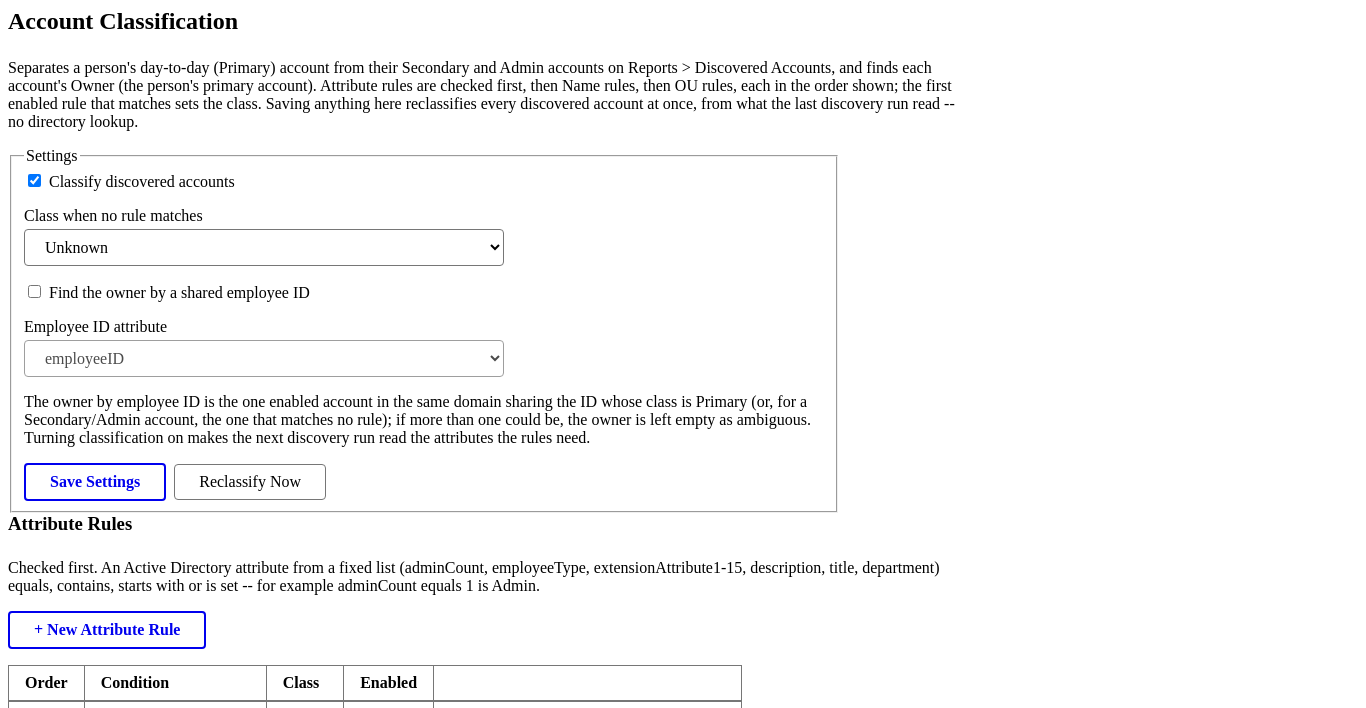
AccountClassification.vue › saves the settings and says how many accounts were reclassified
The image size is (1366, 708).
Click the checkbox labelled "Find the owner by a shared employee ID": coordinates (34, 291) [28,285,41,298]
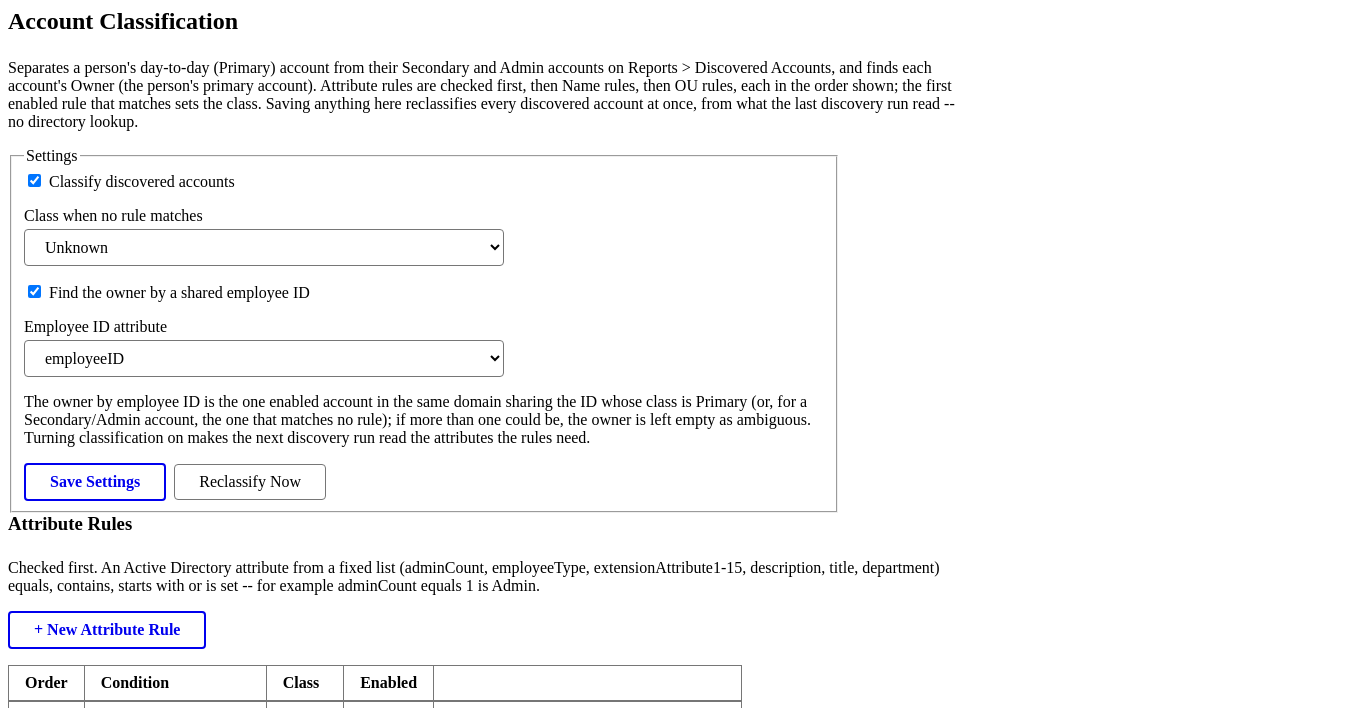
Select "employeeNumber" in the dropdown labelled "Employee ID attribute": coordinates (264, 358) [24,340,504,377]
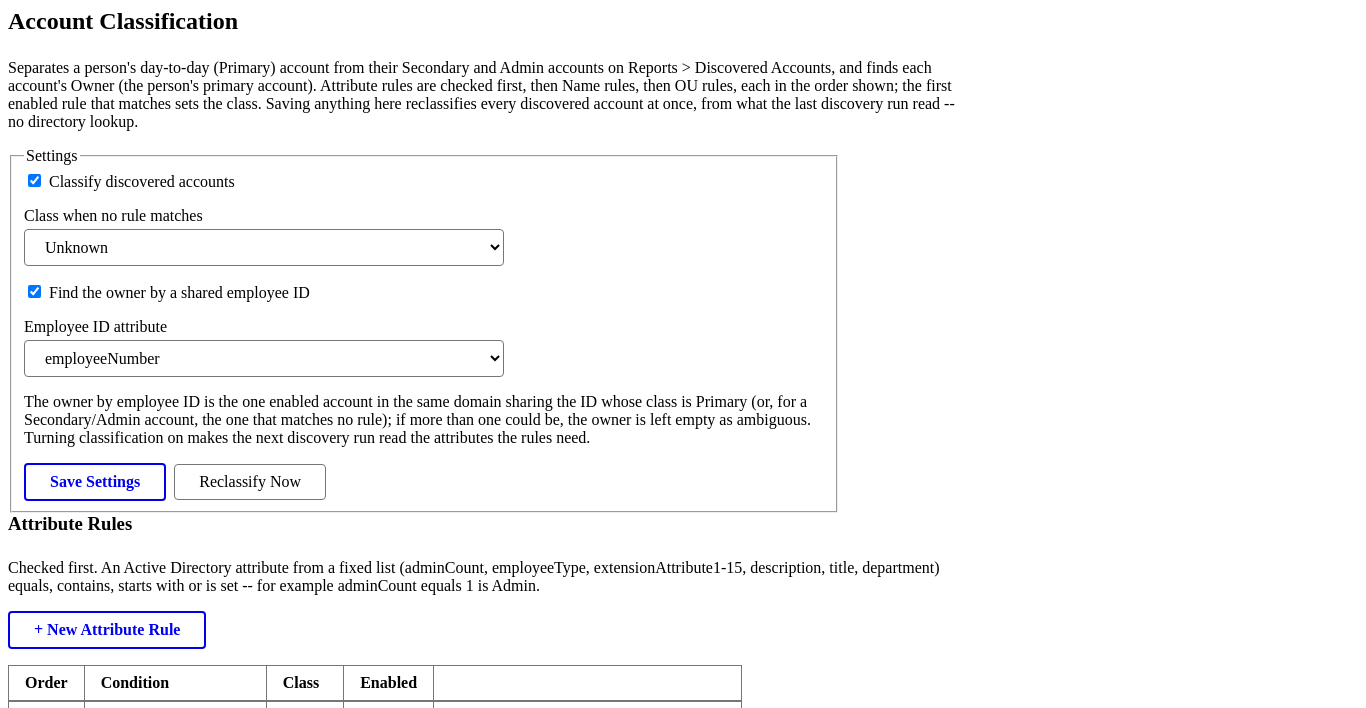
Submit the form, box [10,147,838,513]
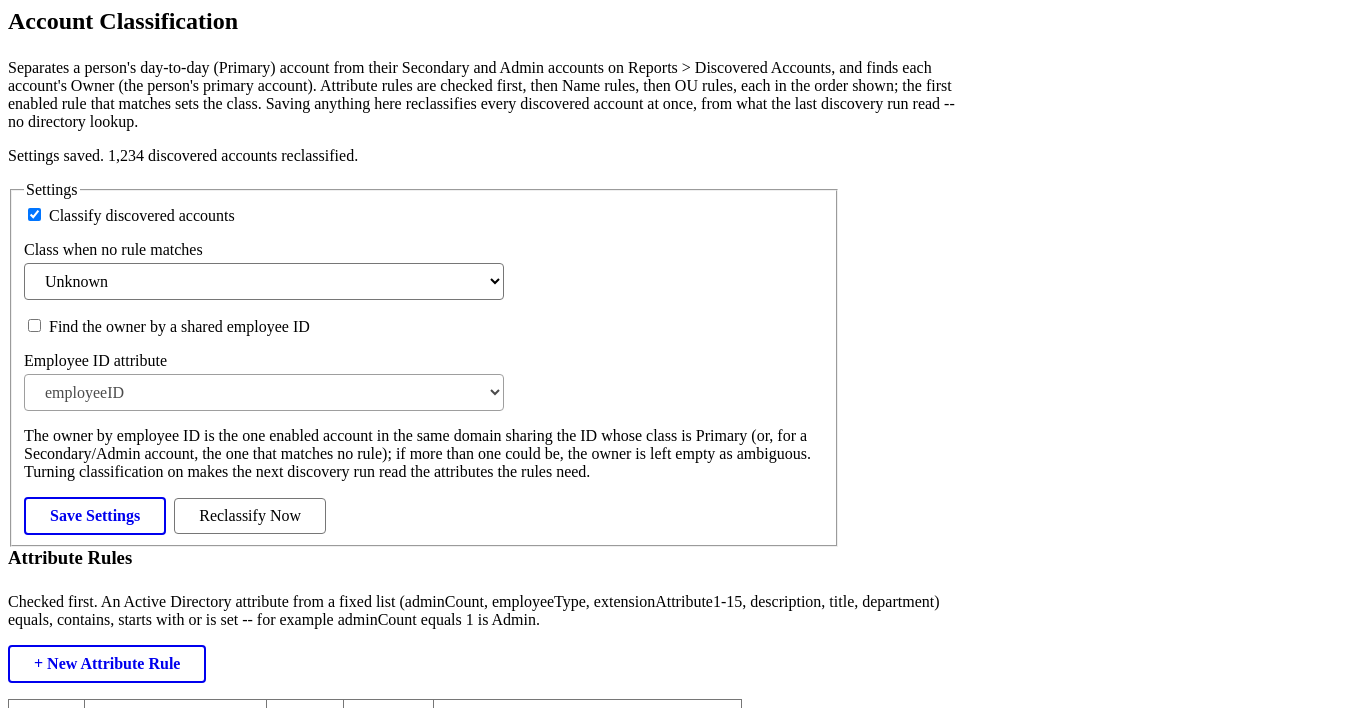
Expected: the text "Settings saved. 1,234 discovered accounts reclassified." is shown, [8,147,358,164]
